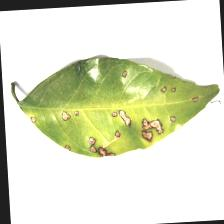canker: (41, 97, 186, 176)
